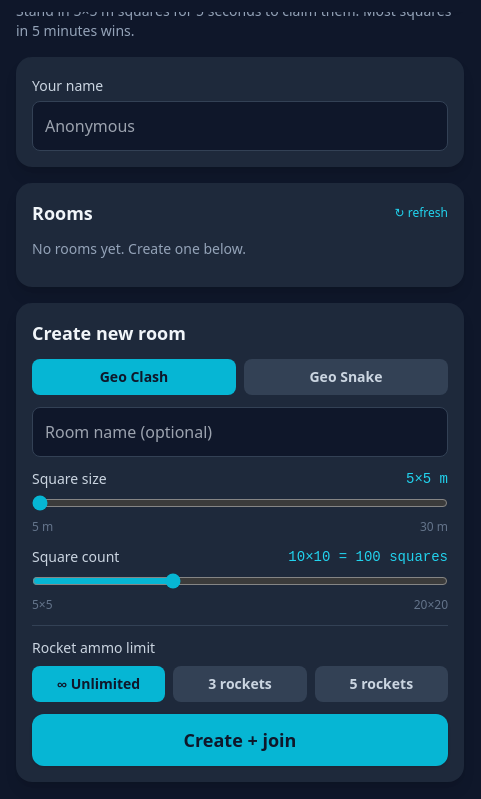
Test: create → join auto-flow › does not emit room-join when create ack fails
(page scrolled)
Click the button "Create + join".
click(240, 740)  # box [32, 714, 448, 766]
(page scrolled)
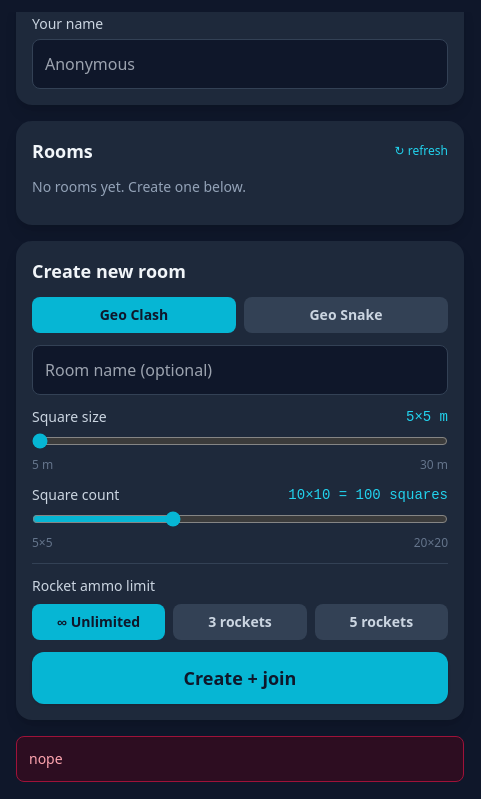
Expected: the text "nope" is shown, [16, 736, 464, 782]
